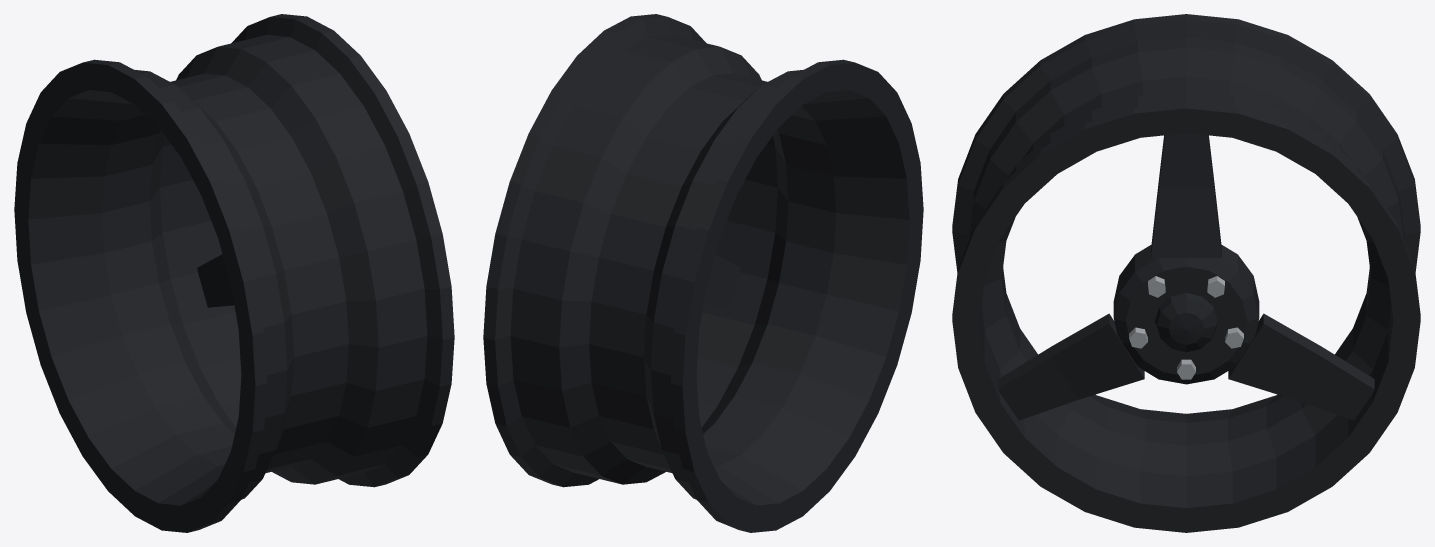
The model's file is rim_3spoke_17.glb.
The picture shows the model from 3 angles, left to right: view 1: azimuth 30°, elevation 25°; view 2: azimuth 150°, elevation 25°; view 3: azimuth 270°, elevation 25°; orthographic projection. The views are drawn at different scales.
Visible parts, largest first — view 1: model; view 2: model; view 3: model.
Boxes of the visible parts, bbox=[...] form: model: bbox=[14, 14, 454, 532]; model: bbox=[483, 14, 923, 532]; model: bbox=[952, 14, 1420, 532].
Size of the model in its own units: 0.2422 by 0.4638 by 0.4638.
Materials: 3 (1 with a texture image).
